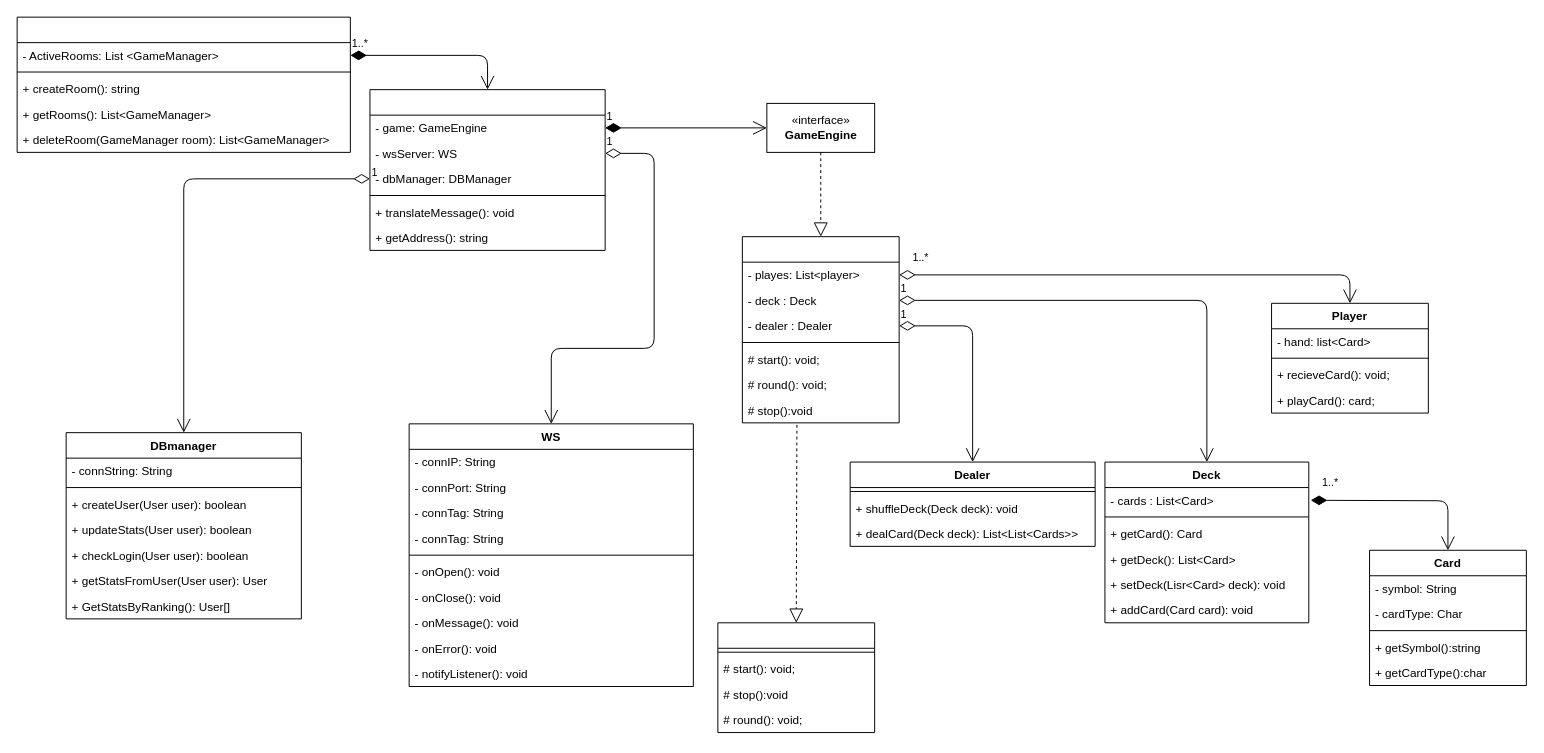
Image size: 1544x753. Some labels were removed from this diagram. Each missing label, with the box of its shape:
CardGame: (741, 236, 899, 423)
GameManager: (369, 89, 605, 250)
ServerManager: (16, 16, 350, 152)
Whist: (717, 622, 875, 733)
